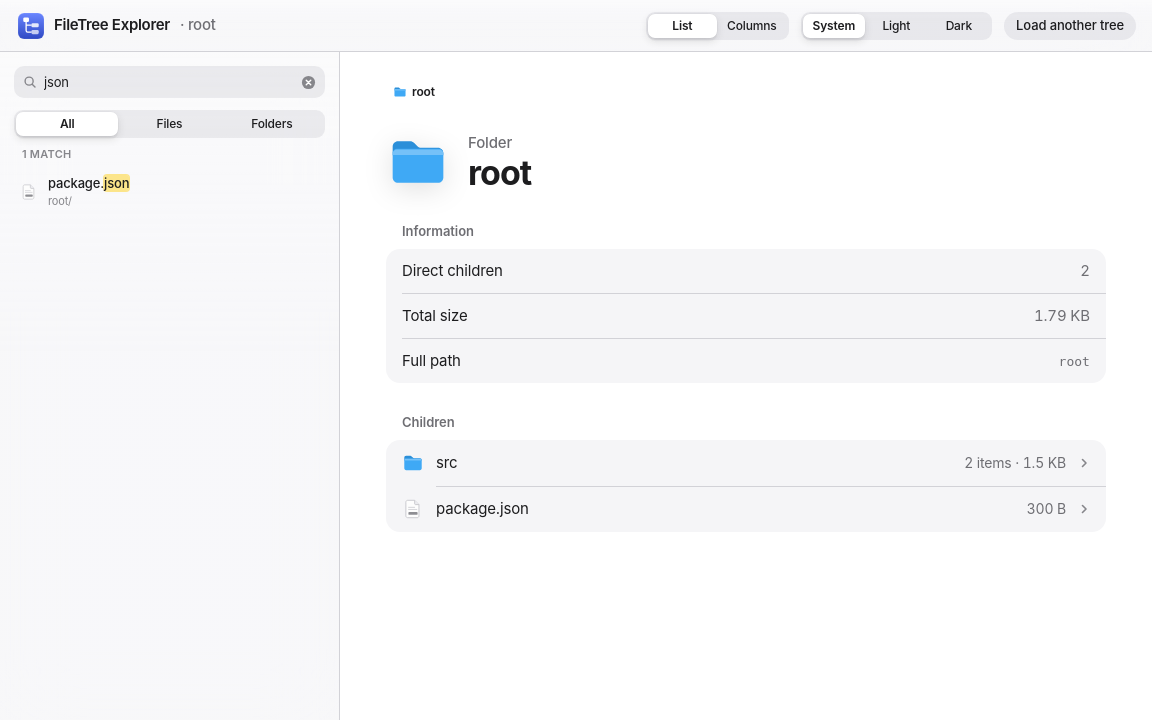
Test: searching by name › opens a result picked with the keyboard
Click the search field named "Search by name".
click(170, 82)  # box [14,66,325,98]
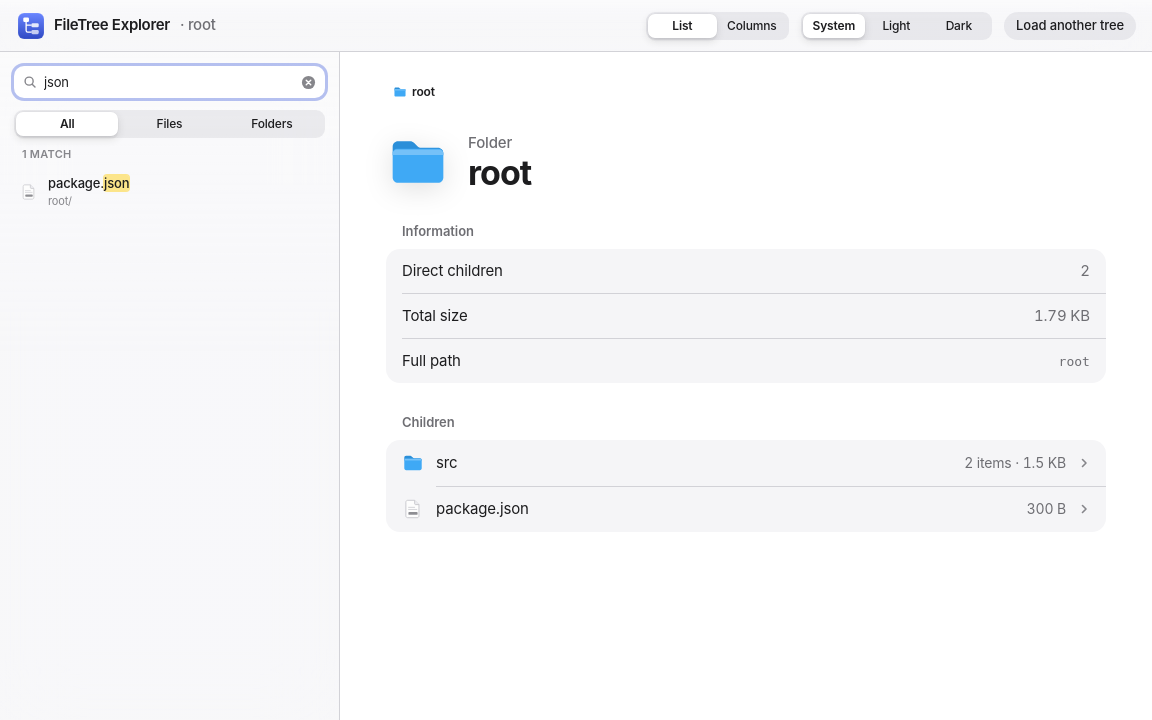
Press Arrowdown Enter
(page scrolled)
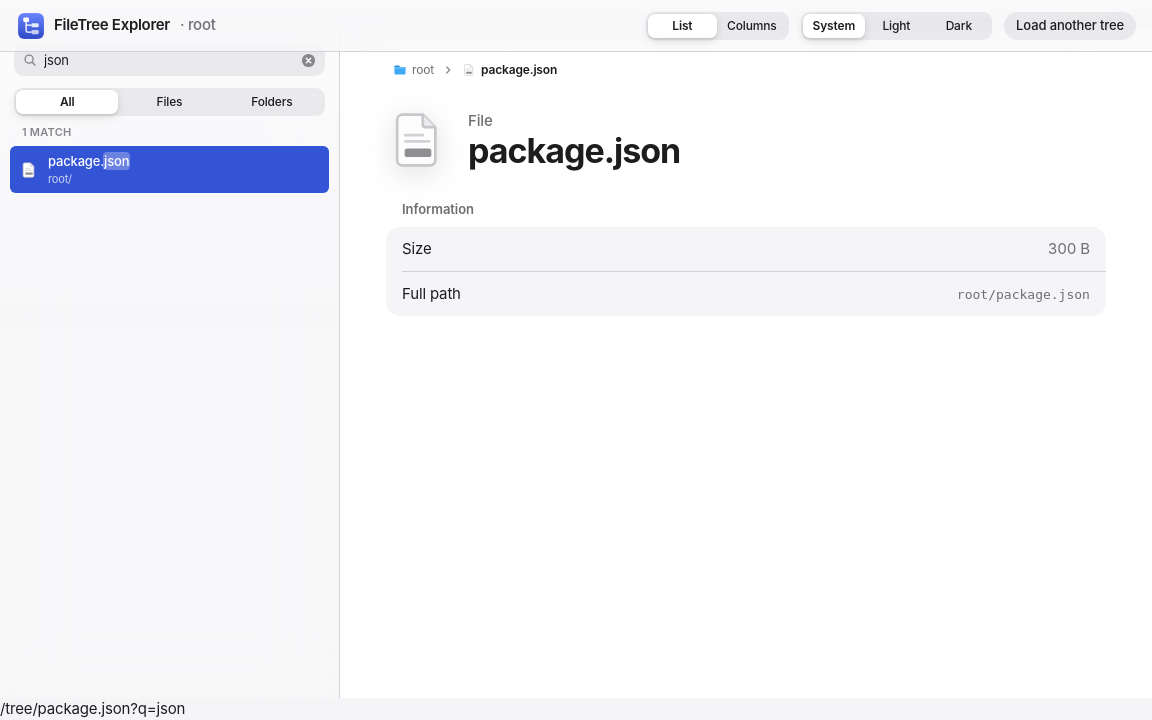
Check: the text with test id "location" reads "/tree/package.json?q=json", box [0,699,185,718]
